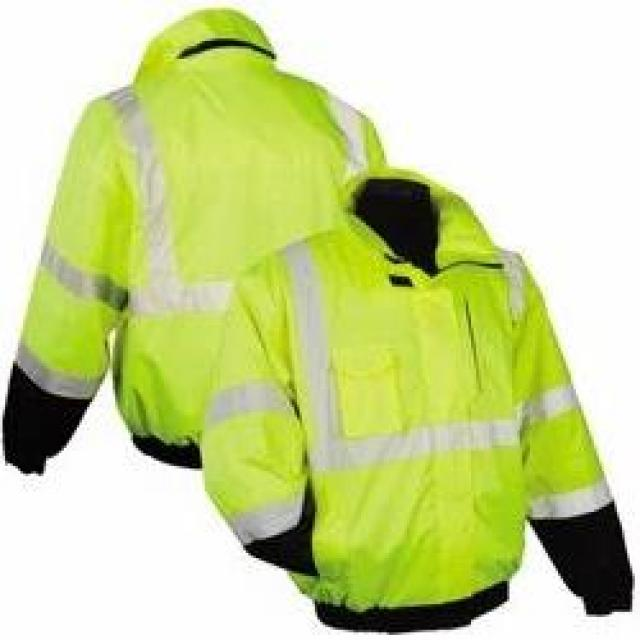Reflective-Jacket: (194, 168, 640, 637), (6, 0, 382, 513)
